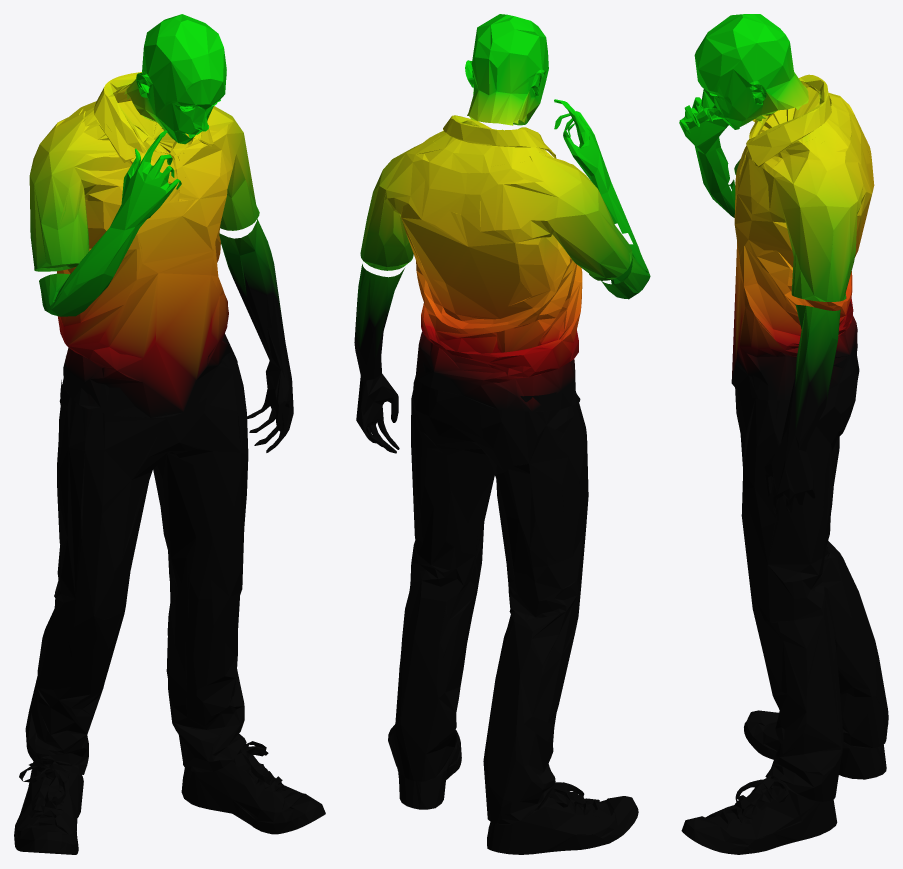
The model's file is Brian_Phone.glb.
3 views of the same model, side by side, from view 1: azimuth 30°, elevation 25°; view 2: azimuth 150°, elevation 25°; view 3: azimuth 270°, elevation 25° (orthographic). The views are drawn at different scales.
Parts seen in each view (by area): view 1: full30; view 2: full30; view 3: full30.
Boxes of the visible parts, x1=… form: full30: x1=14, y1=14, x2=325, y2=854; full30: x1=354, y1=14, x2=650, y2=854; full30: x1=679, y1=14, x2=888, y2=854.
Bounding box in the file's own units: 0.6417 × 1.82 × 0.4403.
